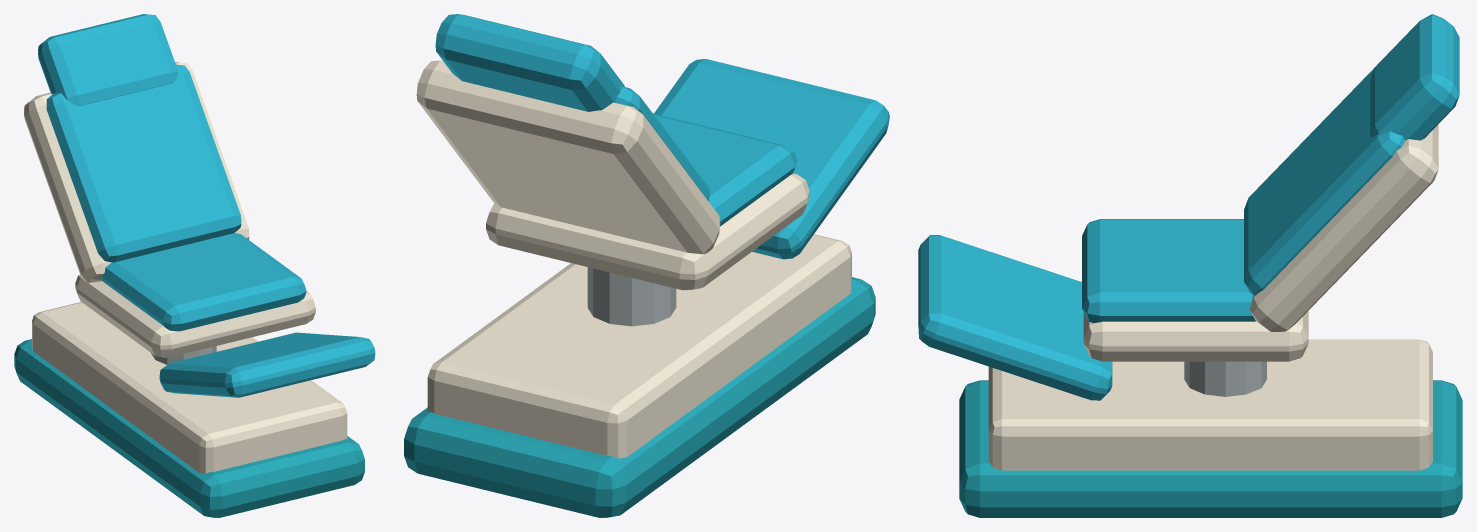
File: examination_couch_standard.glb
3 views of the same model, side by side, from view 1: azimuth 30°, elevation 25°; view 2: azimuth 150°, elevation 25°; view 3: azimuth 270°, elevation 25° (orthographic). The views are drawn at different scales.
Parts seen in each view (by area): view 1: STATIC_cream.015, MOVING_backrest.001, STATIC_blue.009, STATIC_teal.018, MOVING_legrest, STATIC_metal.020; view 2: STATIC_cream.015, STATIC_teal.018, STATIC_blue.009, MOVING_legrest, STATIC_metal.020, MOVING_backrest.001; view 3: STATIC_cream.015, STATIC_teal.018, STATIC_blue.009, MOVING_legrest, MOVING_backrest.001, STATIC_metal.020.
Part boxes in pixels (x1,y1,x2,y2): STATIC_cream.015: (24, 62, 347, 473); MOVING_backrest.001: (46, 64, 241, 262); STATIC_blue.009: (38, 14, 306, 331); STATIC_teal.018: (14, 339, 364, 517); MOVING_legrest: (159, 332, 375, 397); STATIC_metal.020: (151, 346, 216, 364); STATIC_cream.015: (416, 60, 851, 458); STATIC_teal.018: (404, 277, 875, 517); STATIC_blue.009: (435, 14, 797, 226); MOVING_legrest: (654, 59, 889, 259); STATIC_metal.020: (587, 267, 676, 326); MOVING_backrest.001: (615, 86, 709, 200); STATIC_cream.015: (988, 124, 1438, 470); STATIC_teal.018: (959, 380, 1462, 517); STATIC_blue.009: (1082, 14, 1459, 323); MOVING_legrest: (918, 235, 1112, 400); MOVING_backrest.001: (1244, 68, 1404, 295); STATIC_metal.020: (1184, 361, 1266, 396).
Bounding box in the file's own units: 0.8 × 1.61 × 1.84.
